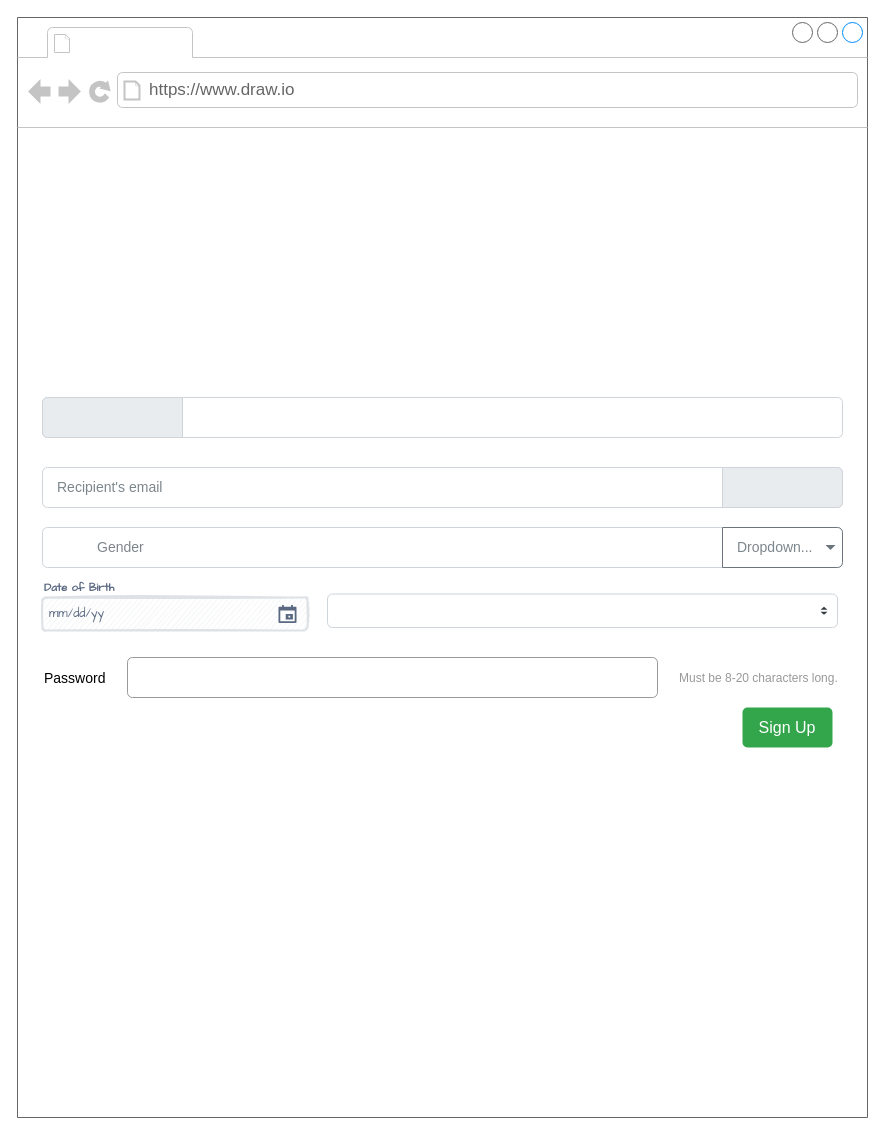
The diagram is 885 pixels wide and 1135 high, and some of its shapes have lost their labels. The centre of each missing label's shape, as x and y in pixels:
"Education Level" goes at point (582, 610).
"First and last name" goes at point (112, 417).
"Sign Up(tutors)" goes at point (157, 42).
